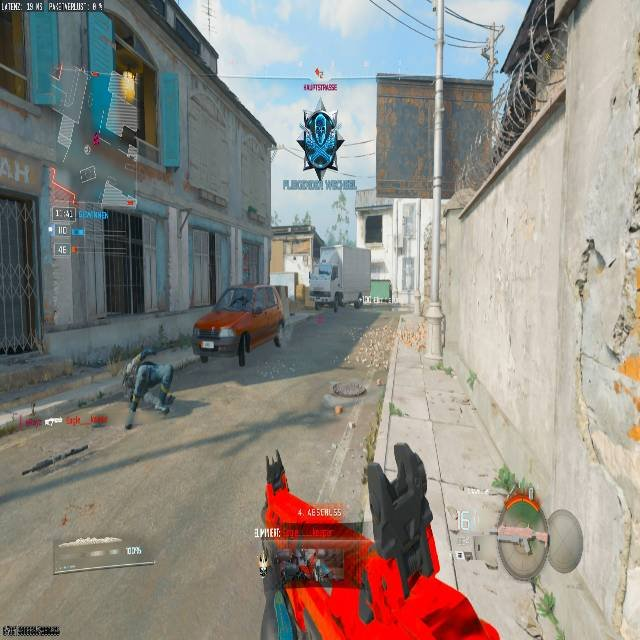head: (307, 106, 325, 125)
player: (121, 349, 177, 429), (297, 109, 342, 181)
